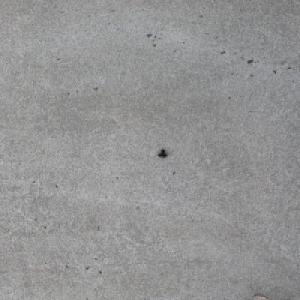BoltWasher: (156, 148, 167, 158)
